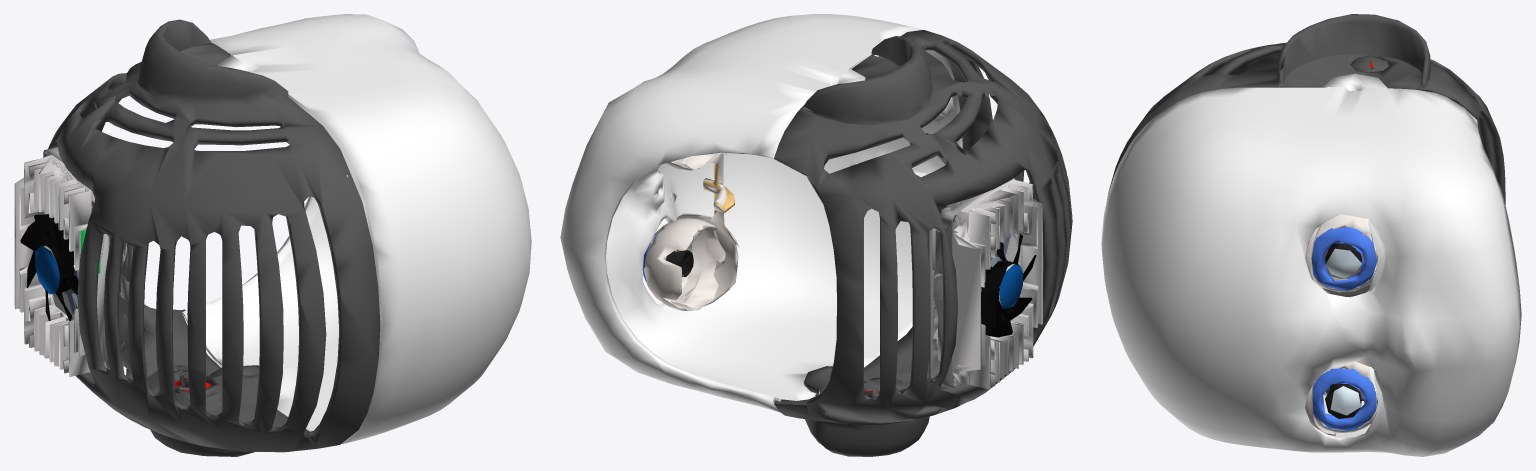
Rendered from sim_head_head.obj.
3 renders of one model, left to right at view 1: azimuth 30°, elevation 25°; view 2: azimuth 150°, elevation 25°; view 3: azimuth 270°, elevation 25°, orthographic. The views are drawn at different scales.
Size of the model in its own units: 211 by 185 by 185.
